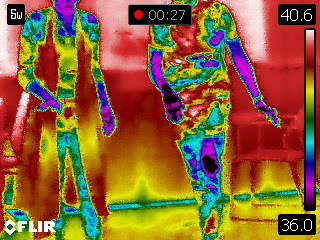human: (148, 1, 280, 237), (18, 1, 118, 239)
